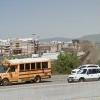Bus: (5, 53, 58, 85)
